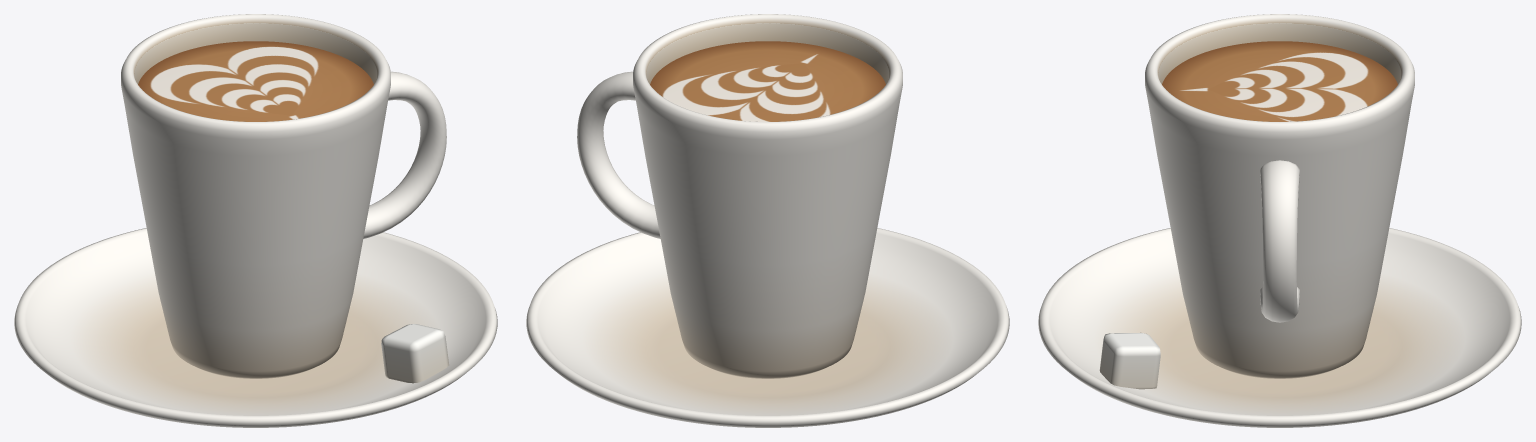
File: latte.glb
3 renders of one model, left to right at view 1: azimuth 30°, elevation 25°; view 2: azimuth 150°, elevation 25°; view 3: azimuth 270°, elevation 25°, orthographic.
Visible parts, largest first — view 1: latte_body, sugar; view 2: latte_body; view 3: latte_body, sugar.
Part boxes in pixels (x1,y1,x2,y2): latte_body: (14,14,497,427); sugar: (381,324,449,383); latte_body: (526,14,1009,427); latte_body: (1038,14,1521,427); sugar: (1099,332,1160,389).
Size of the model in its own units: 0.292 by 0.1956 by 0.292.
Materials: 1 (1 with a texture image).
